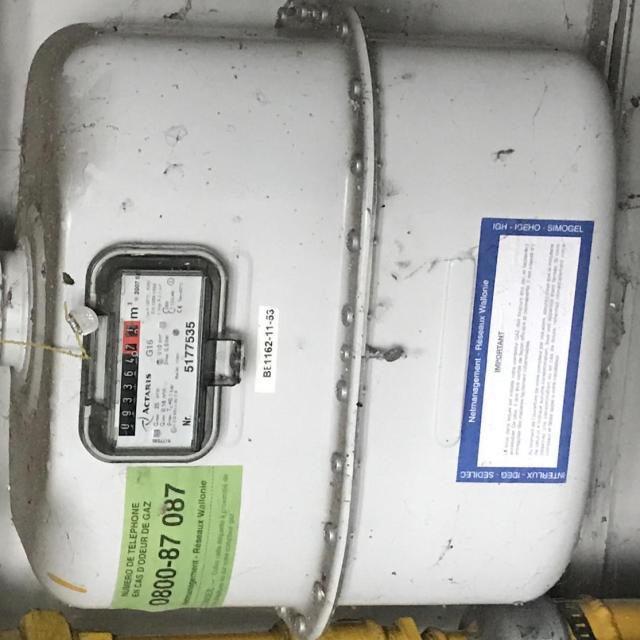gaz_meter: (113, 267, 199, 452)
indication: (117, 317, 141, 438)
